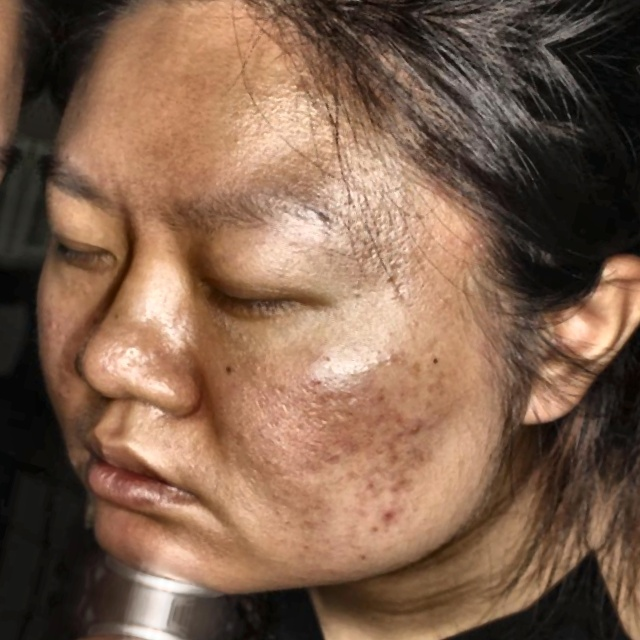comedone: (373, 499, 417, 539), (400, 406, 431, 450)
